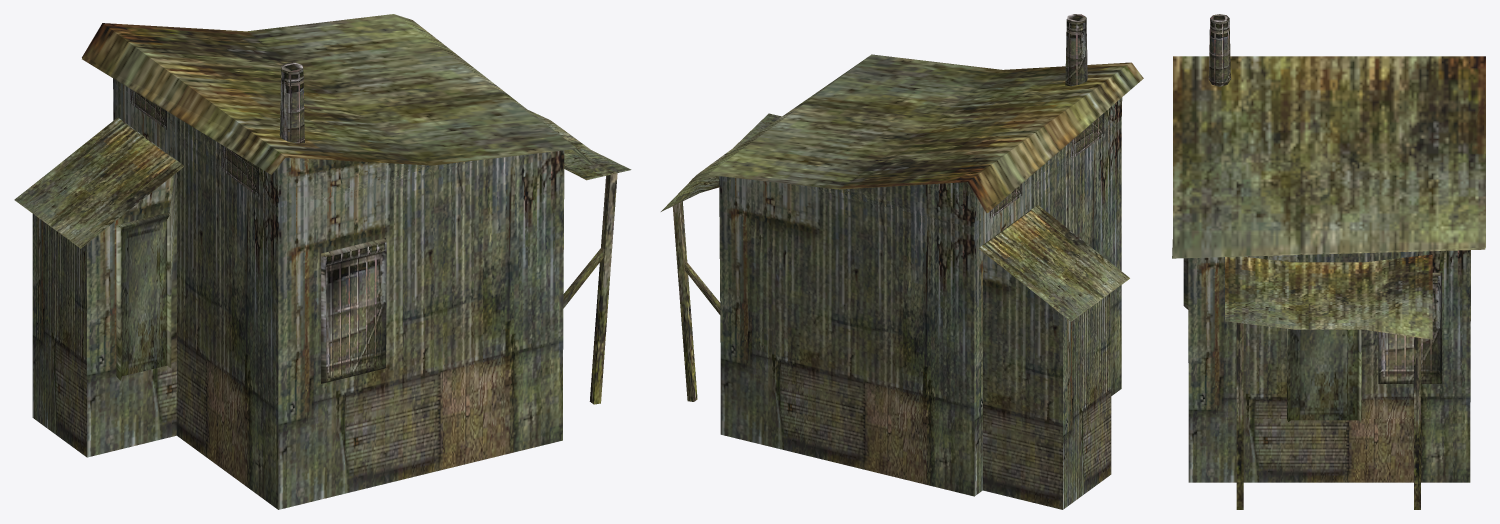
The model's file is MSlm1B.glb.
3 renders of one model, left to right at view 1: azimuth 30°, elevation 25°; view 2: azimuth 150°, elevation 25°; view 3: azimuth 270°, elevation 25°, orthographic. The views are drawn at different scales.
Parts seen in each view (by area): view 1: _MSlm1B; view 2: _MSlm1B; view 3: _MSlm1B.
Boxes of the visible parts, x1,y1,x2,y2 form: _MSlm1B: (14, 14, 631, 509); _MSlm1B: (661, 14, 1143, 509); _MSlm1B: (1172, 14, 1485, 509).
Size of the model in its own units: 6.72 by 5.65 by 4.47.
Materials: 1 (1 with a texture image).
